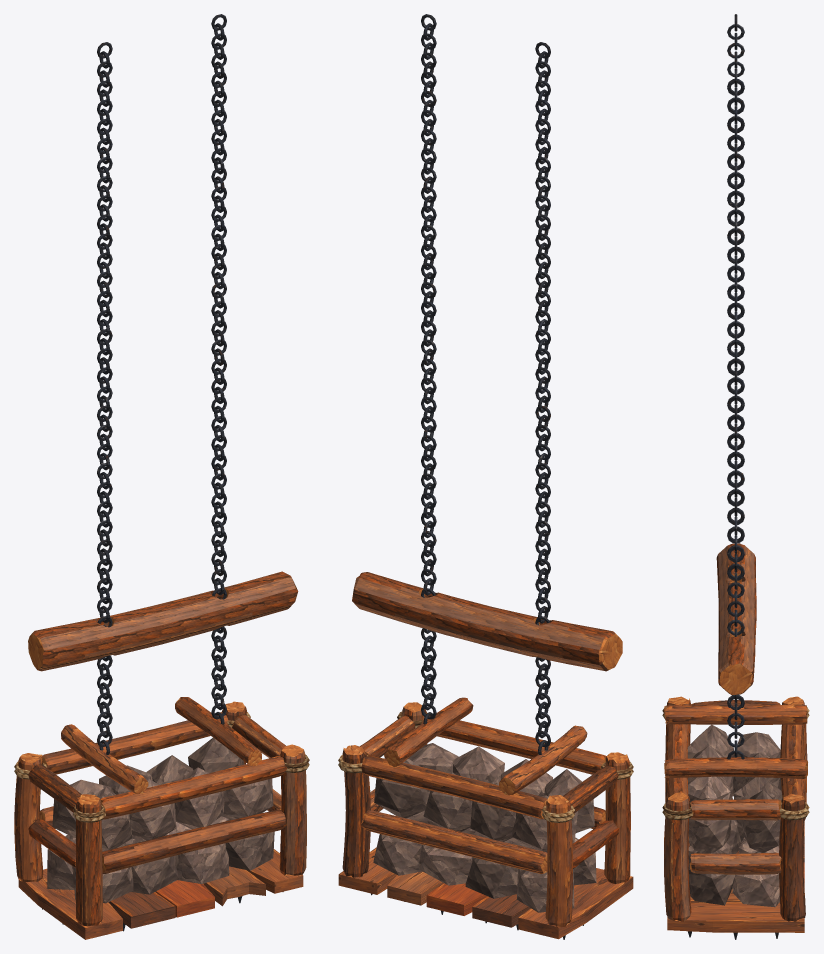
The model's file is trap_crusher.glb.
3 renders of one model, left to right at view 1: azimuth 30°, elevation 25°; view 2: azimuth 150°, elevation 25°; view 3: azimuth 270°, elevation 25°, orthographic. The views are drawn at different scales.
Parts seen in each view (by area): view 1: weight, frame; view 2: weight, frame; view 3: weight, frame.
Boxes of the visible parts, x1=… form: weight: x1=14, y1=14, x2=309, y2=939; frame: x1=28, y1=571, x2=298, y2=671; weight: x1=338, y1=14, x2=633, y2=939; frame: x1=352, y1=572, x2=622, y2=671; weight: x1=662, y1=14, x2=809, y2=939; frame: x1=716, y1=543, x2=756, y2=694.
Bounding box in the file's own units: 2.01 × 6.56 × 1.03.
30 materials, 30 textured.
